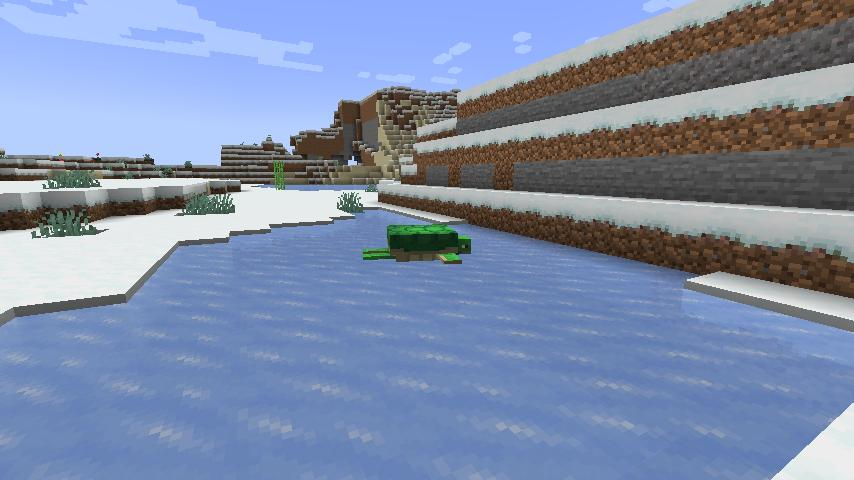turtle: (357, 220, 476, 271)
